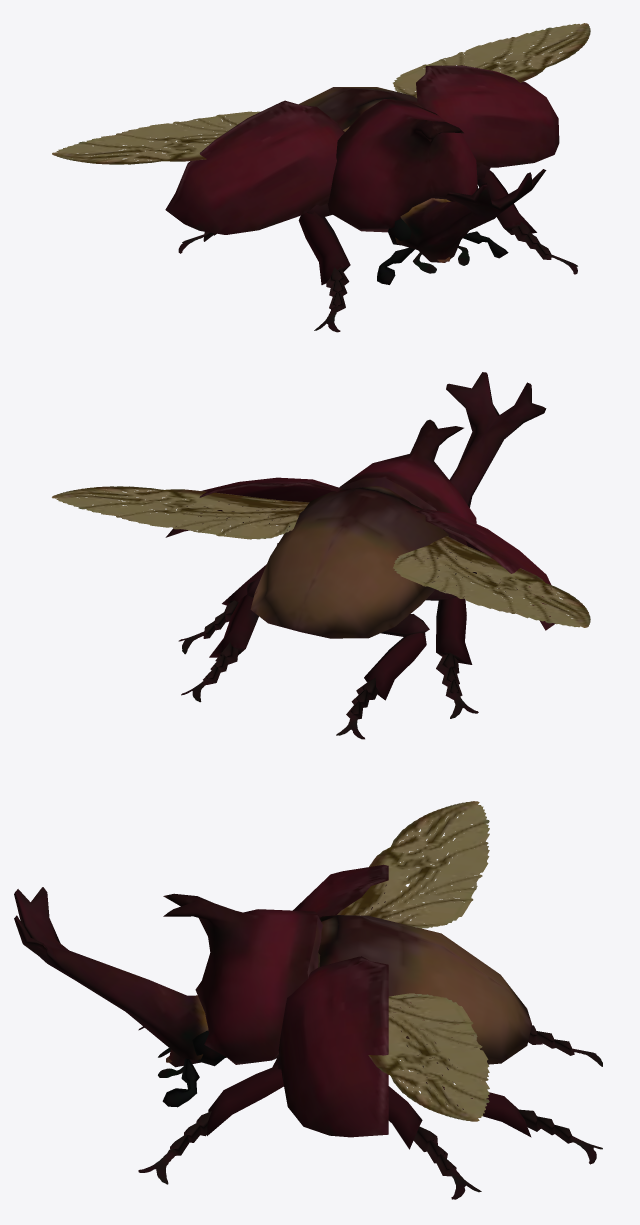
The model's file is horned-dynastid.glb.
The picture shows the model from 3 angles, top to bottom: view 1: azimuth 30°, elevation 25°; view 2: azimuth 150°, elevation 25°; view 3: azimuth 270°, elevation 25°; orthographic projection. The views are drawn at different scales.
Size of the model in its own units: 7.35 by 2.04 by 5.19.
2 materials, 2 textured.
